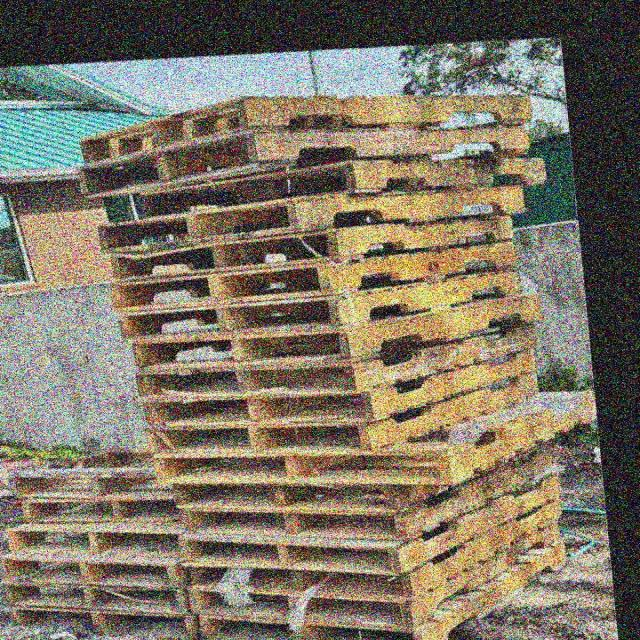non-igps: (144, 380, 607, 497), (173, 466, 576, 582), (179, 492, 574, 610), (184, 515, 569, 636), (169, 432, 567, 546), (73, 111, 538, 208), (123, 282, 551, 382), (88, 172, 534, 266), (192, 535, 582, 640), (123, 142, 560, 235), (61, 87, 538, 172), (140, 366, 554, 462), (103, 232, 530, 325), (102, 201, 524, 295), (128, 311, 545, 404), (110, 263, 529, 353), (132, 340, 544, 431), (166, 427, 458, 519), (0, 445, 173, 505), (0, 516, 195, 566), (0, 547, 198, 591), (12, 485, 190, 532), (3, 602, 202, 640), (0, 581, 196, 619)
